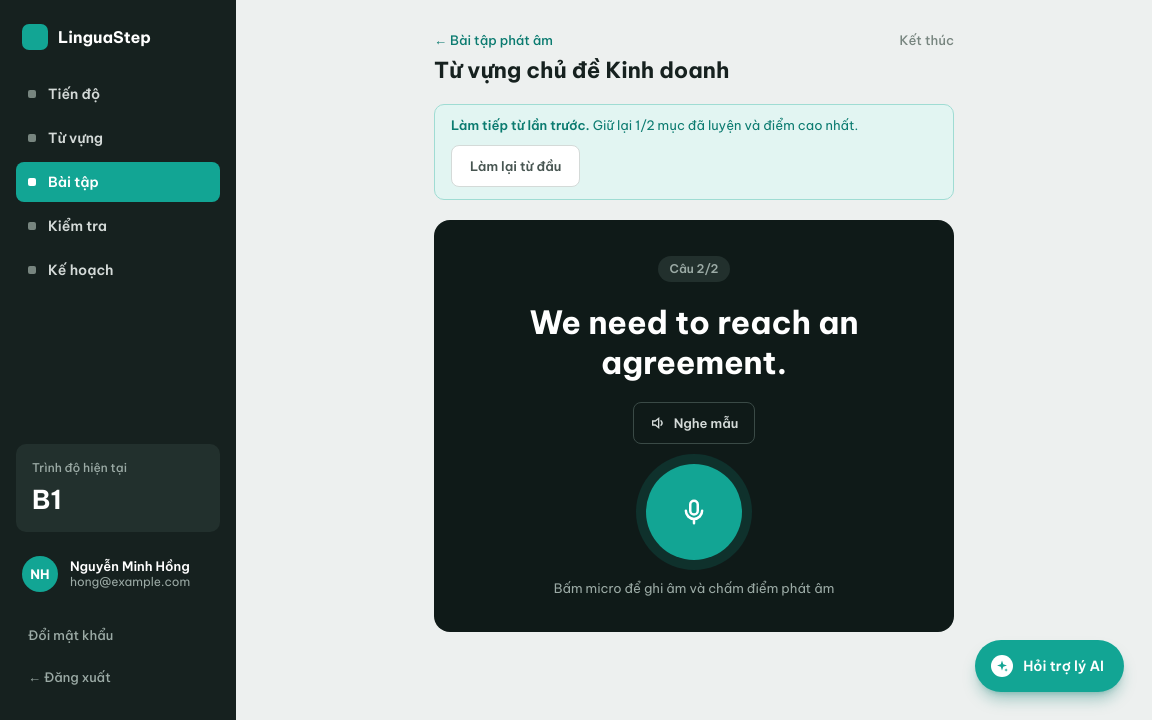
picking up an unfinished pronunciation lesson › keeps the best scores already earned and opens at the first item not recorded
Expected: the text "Câu 2/2" is shown, [658,256,730,282]
Expected: the text "Giữ lại" shows "Giữ lại 1/2 mục đã luyện và điểm cao nhất.", [451,117,858,133]
Click the button "Kết thúc" at [927, 40], box [899,32,954,48]
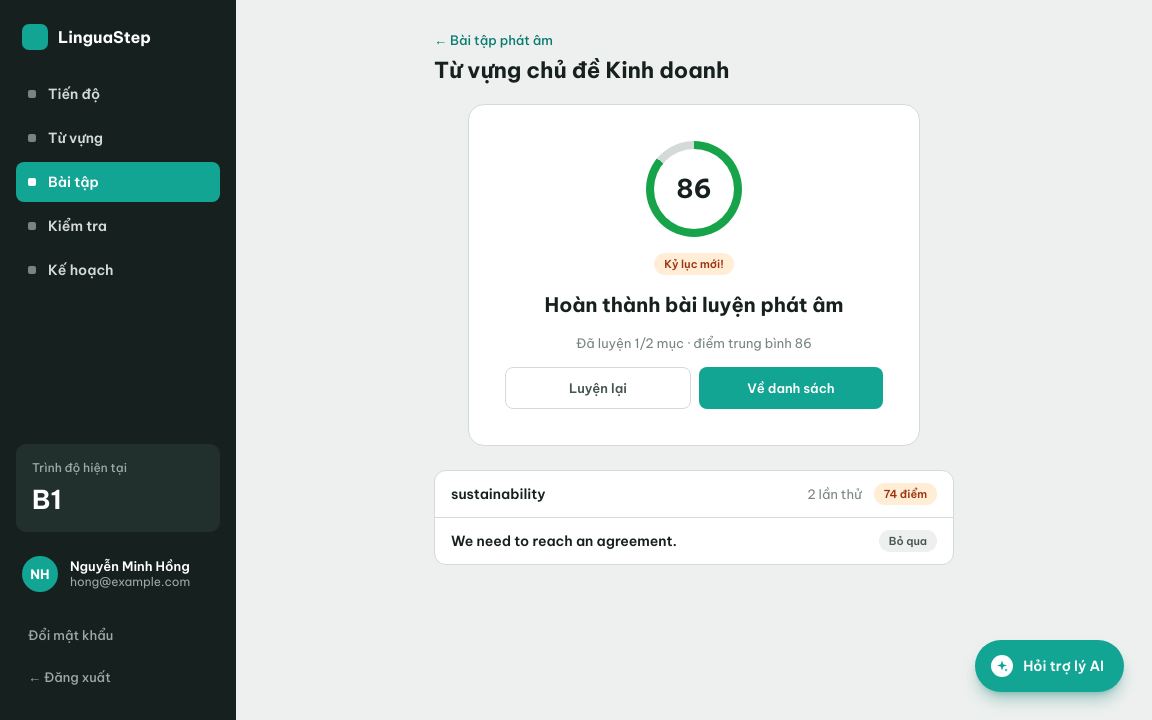
Now the text "74 điểm" is shown, box [874,483,937,505]
Now the text "Bỏ qua" is shown, box [879,530,937,552]
